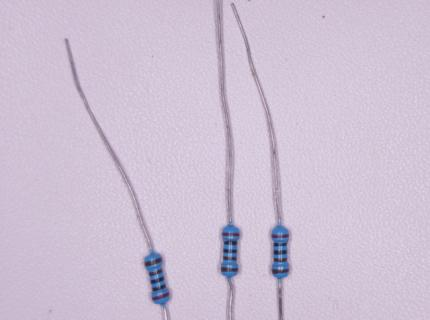Black band: (152, 284, 167, 292), (150, 276, 165, 284), (274, 250, 288, 255), (223, 241, 237, 245), (223, 249, 237, 253), (274, 242, 287, 246)
Brown band: (144, 256, 163, 267), (148, 268, 163, 276), (221, 267, 238, 272), (272, 269, 289, 274), (274, 258, 287, 263), (223, 256, 237, 260)
Red band: (152, 292, 170, 301), (222, 232, 240, 236), (271, 234, 289, 238)
